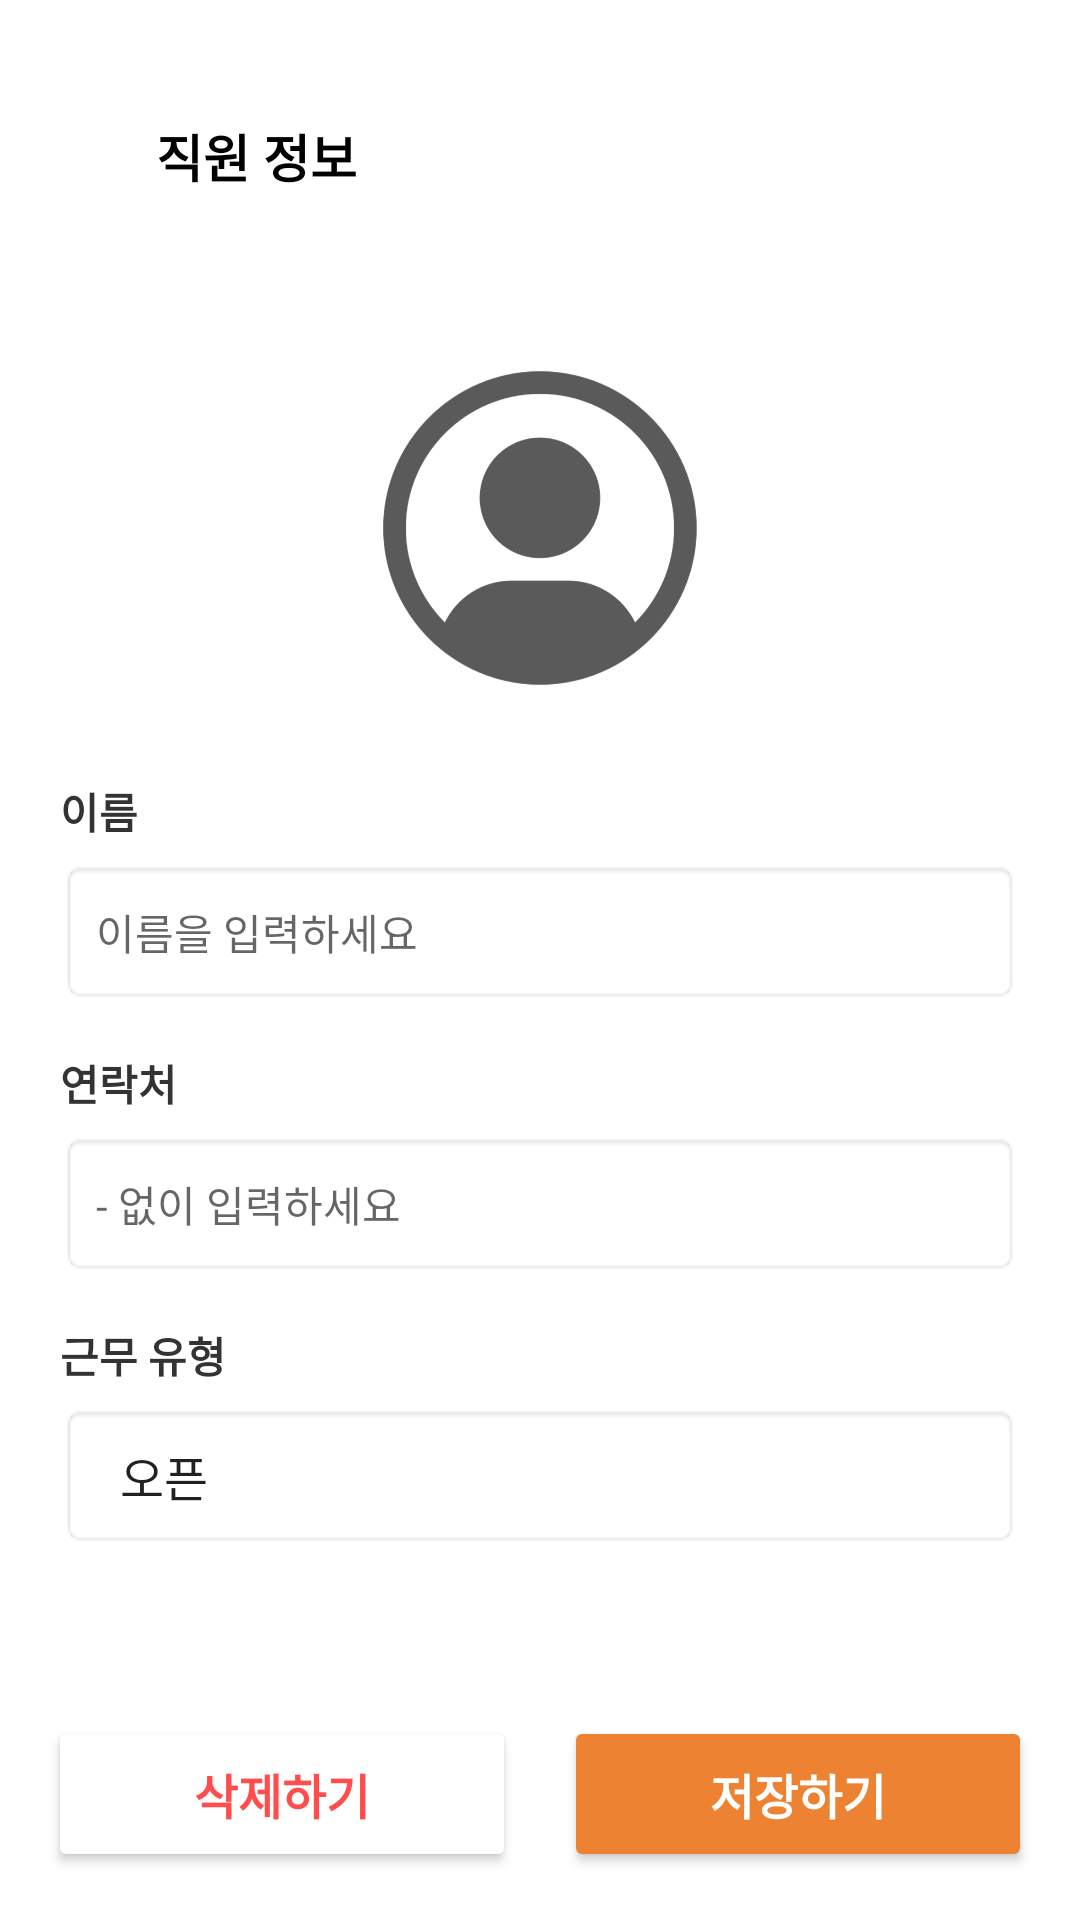

Locate icon controls on the screen. Image size 1080×1920, boxes as (x1, y1, x2, y2).
profile: (383, 371, 697, 685)
